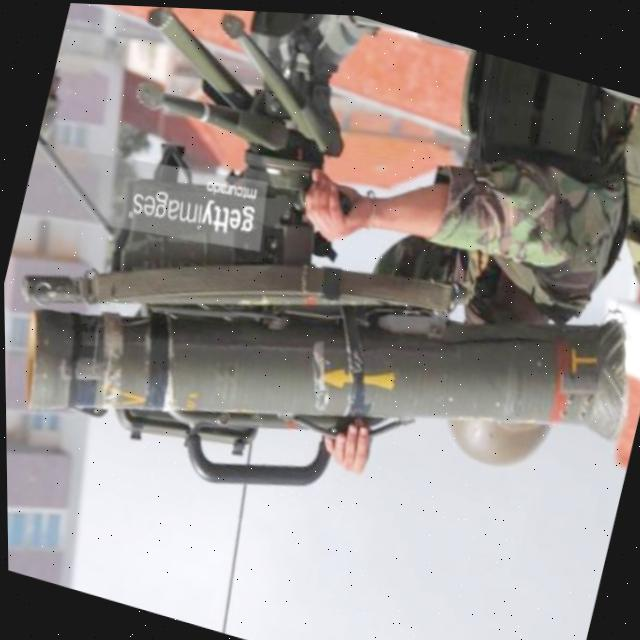rocket: (2, 147, 640, 574)
